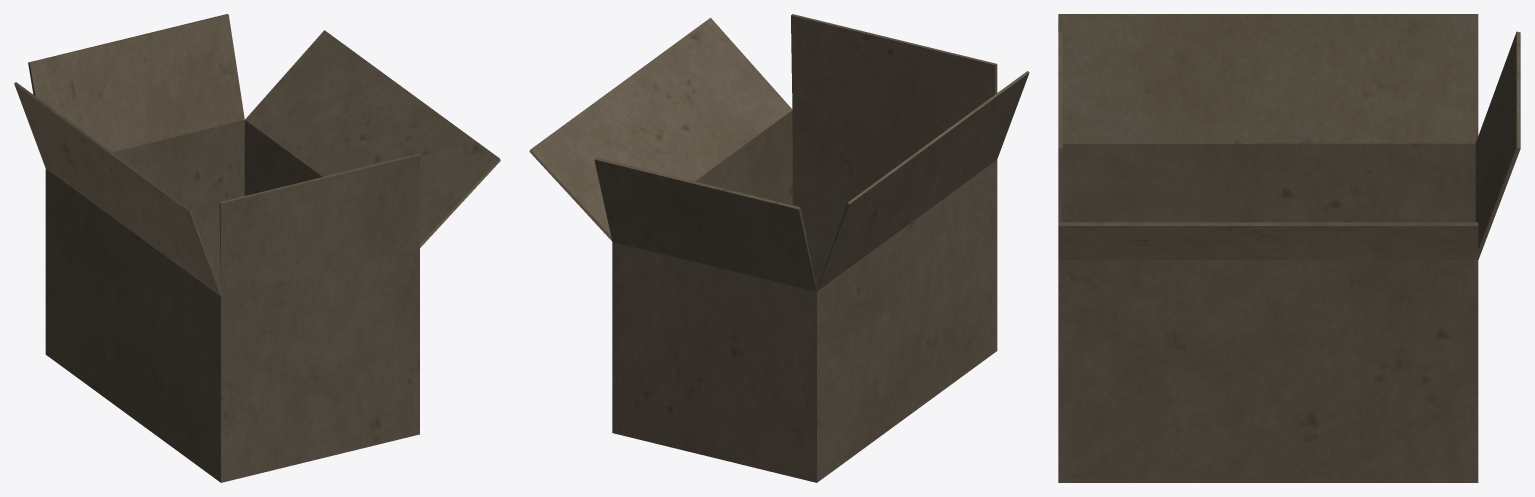
The model's file is box_cartboard.fbx.
3 renders of one model, left to right at view 1: azimuth 30°, elevation 25°; view 2: azimuth 150°, elevation 25°; view 3: azimuth 270°, elevation 25°, orthographic. The views are drawn at different scales.
Visible parts, largest first — view 1: CardboardBox1; view 2: CardboardBox1; view 3: CardboardBox1.
Boxes of the visible parts, x1,y1,x2,y2 form: CardboardBox1: (14, 14, 500, 482); CardboardBox1: (529, 14, 1029, 482); CardboardBox1: (1058, 14, 1520, 482).
Size of the model in its own units: 68.9 by 59.2 by 73.99.
